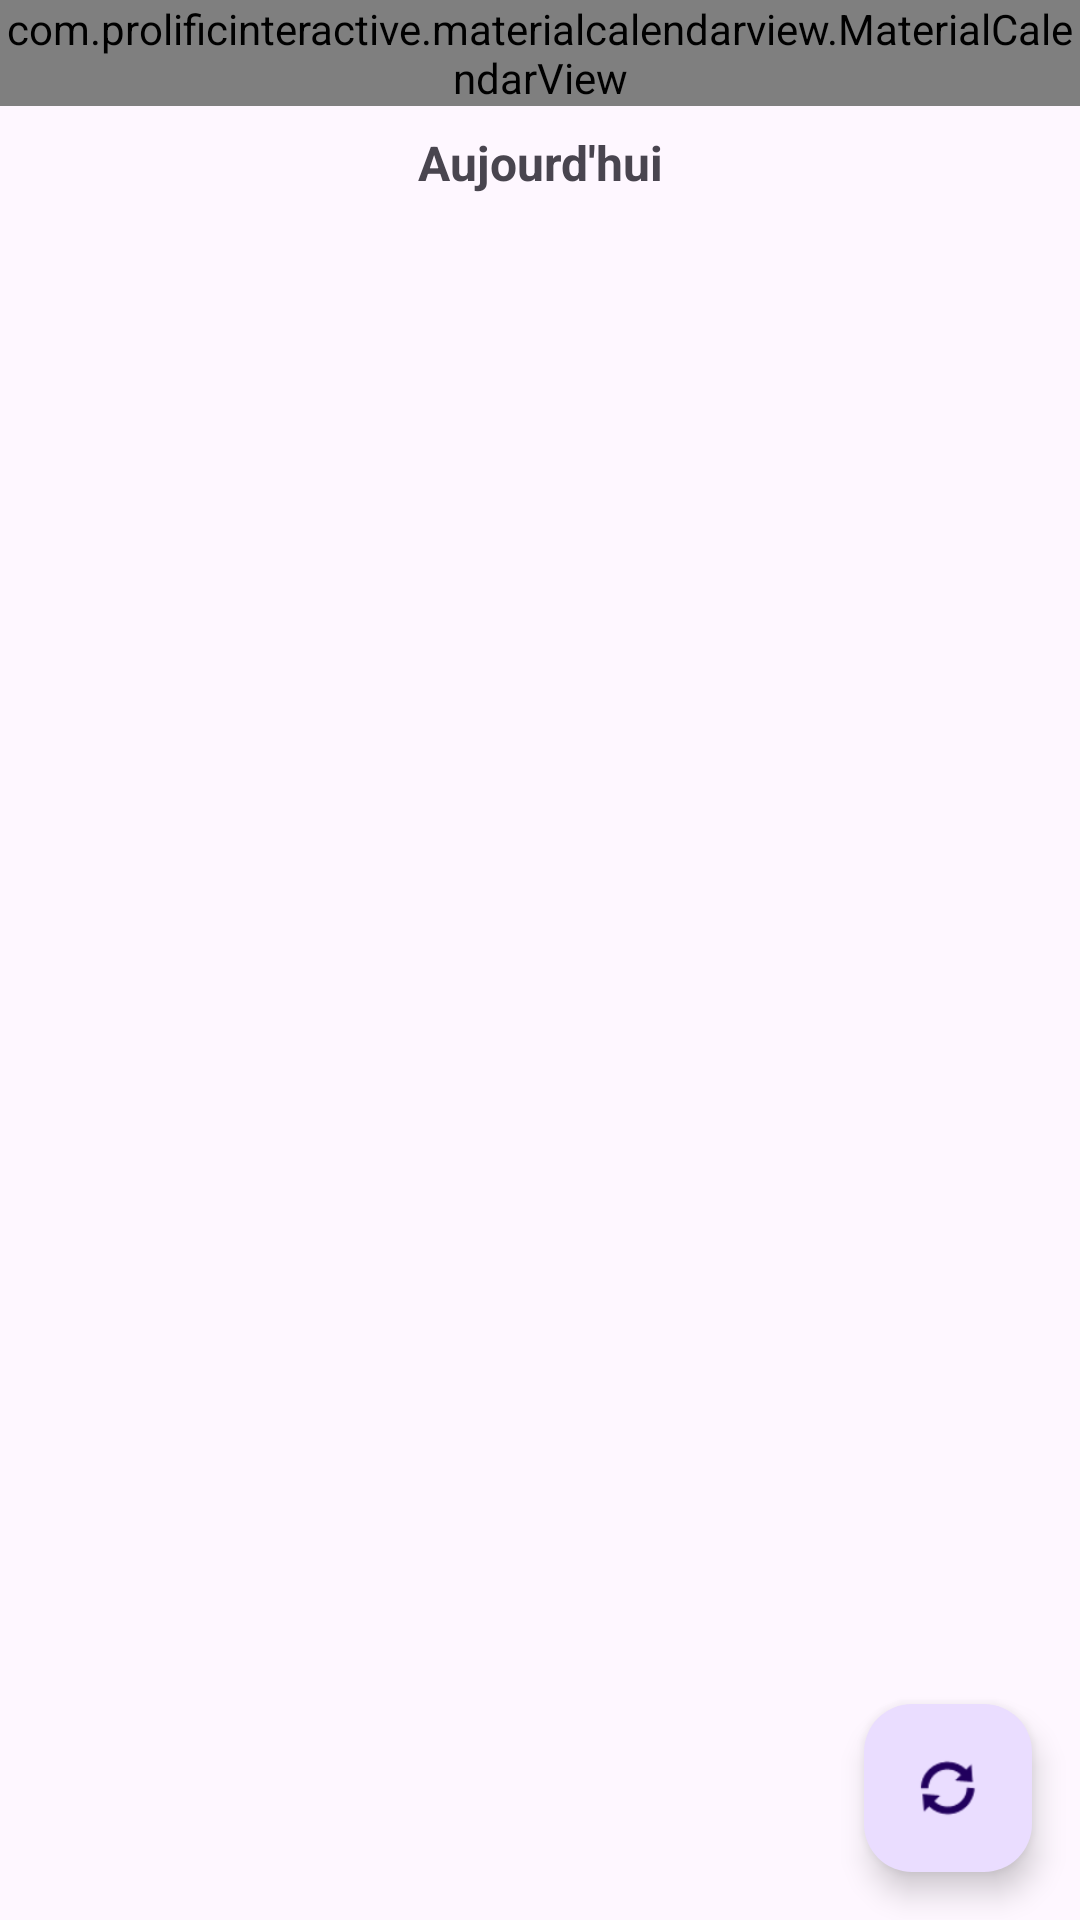

Icons on this 1080w x 1920h Android screen, each with the point to tap as point (x, y):
Générer un planning: point (948, 1788)
